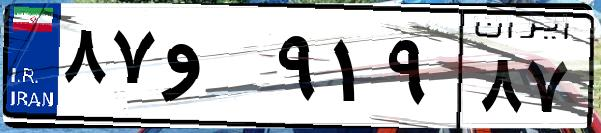1: (330, 28, 385, 110)
7: (525, 38, 570, 115), (110, 28, 158, 98)
8: (57, 26, 110, 100), (475, 38, 525, 113)
9: (270, 28, 330, 110), (385, 28, 445, 110)
و: (158, 20, 270, 120)
